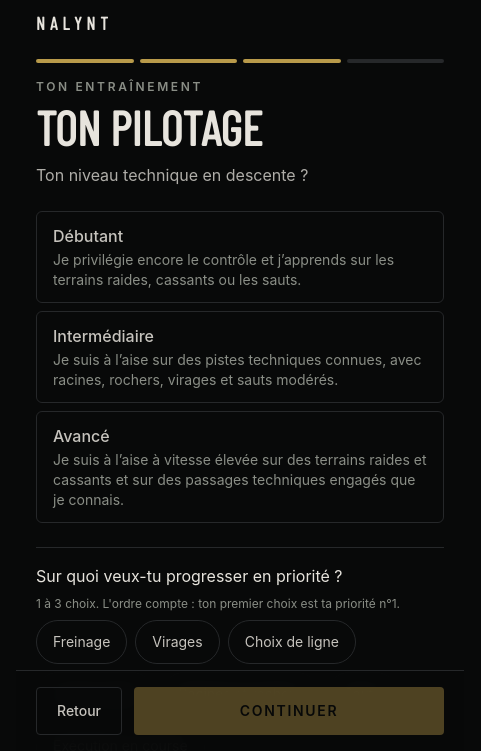
FirstRunSetup — pilotage: declared DH tier and ordered priorities (UX-11A.5a.2b) › requires an explicit tier AND at least one priority to continue
Expected: the heading reads "Ton pilotage", x1=36 y1=98 x2=262 y2=156
Click the button "Avancé".
click(240, 467)  # box x1=36 y1=411 x2=444 y2=523
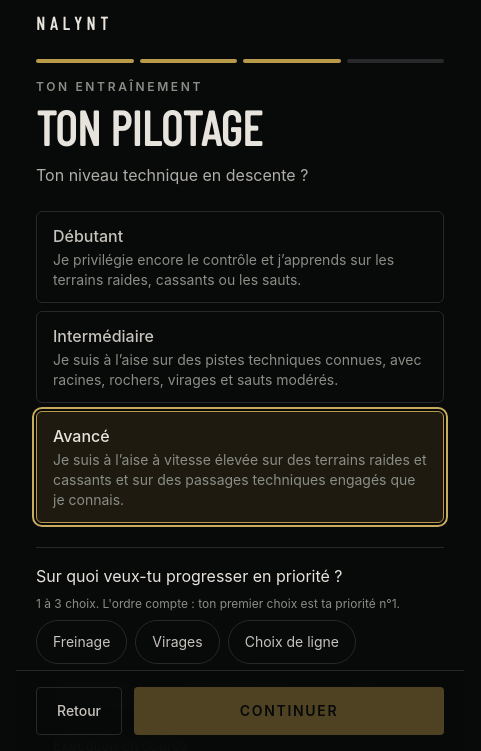
Expected: the button "Continuer" is disabled, x1=134 y1=687 x2=444 y2=735
Click the button "Freinage".
click(82, 642)  # box x1=36 y1=620 x2=127 y2=664
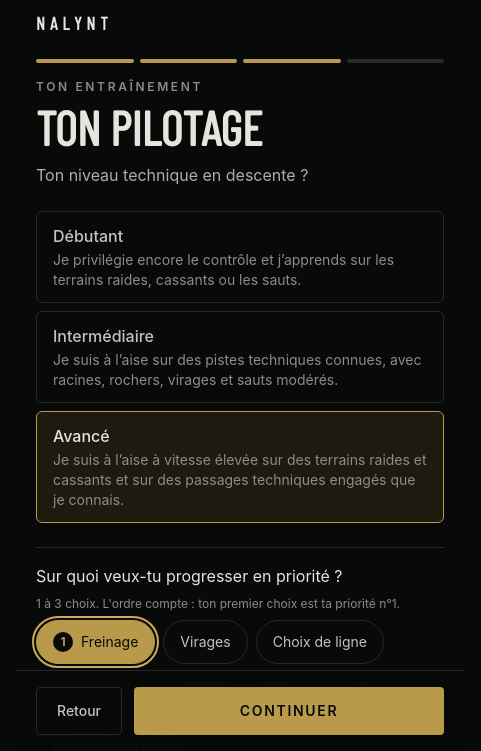
Result: the button "Continuer" is enabled at x1=134 y1=687 x2=444 y2=735
